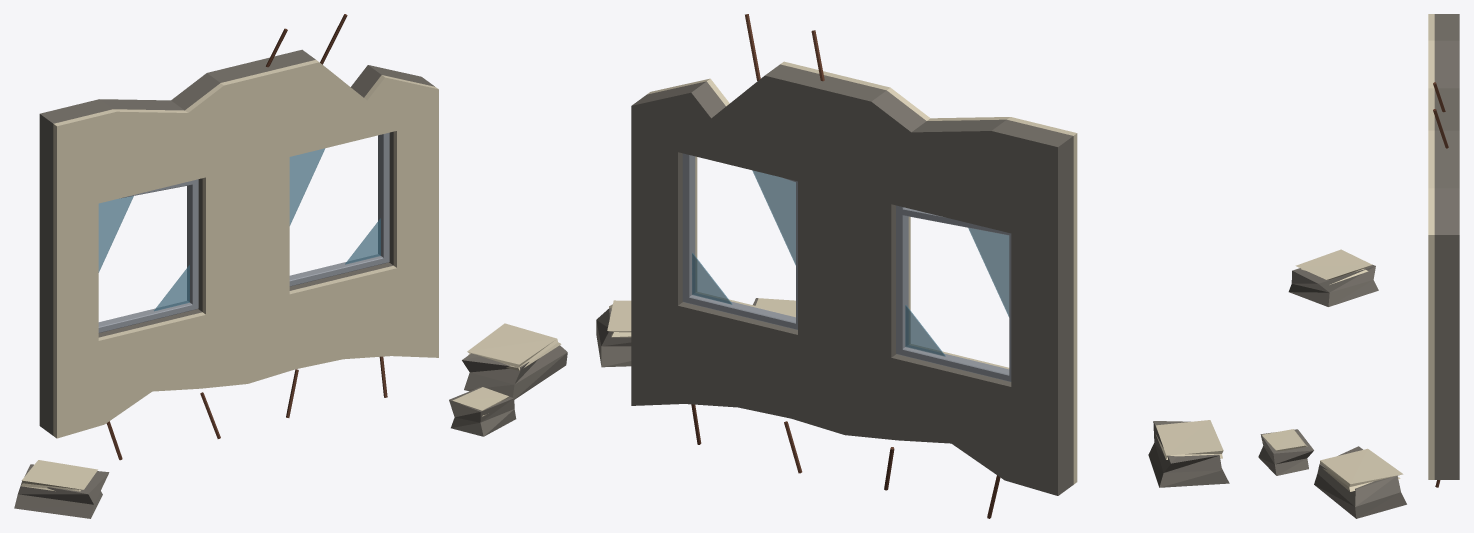
The model's file is DESTROY_04.obj.
The picture shows the model from 3 angles, left to right: view 1: azimuth 30°, elevation 25°; view 2: azimuth 150°, elevation 25°; view 3: azimuth 270°, elevation 25°; orthographic projection. The views are drawn at different scales.
Visible parts, largest first — view 1: DESTROY_04__sill_band_skin, DESTROY_04__header_band_skin, DESTROY_04__pier_M_skin, DESTROY_04__pier_L_skin, DESTROY_04__pier_R_skin, DESTROY_04__header_band_core, DESTROY_04__window_frame, DESTROY_04__window_glass, DESTROY_04__fragment_1, DESTROY_04__fragment_1_skin, DESTROY_04__fragment_2, DESTROY_04__sill_band_core (+7 smaller); view 2: DESTROY_04__header_band_core, DESTROY_04__sill_band_core, DESTROY_04__pier_M_core, DESTROY_04__pier_L_core, DESTROY_04__pier_R_core, DESTROY_04__window_frame, DESTROY_04__window_glass, DESTROY_04__fragment_2, DESTROY_04__header_band_skin, DESTROY_04__fragment_2_skin, DESTROY_04__rebar, DESTROY_04__fragment_1 (+3 smaller); view 3: DESTROY_04__header_band_core, DESTROY_04__pier_R_core, DESTROY_04__fragment_1, DESTROY_04__sill_band_core, DESTROY_04__fragment_2, DESTROY_04__fragment_1_skin, DESTROY_04__header_band_skin, DESTROY_04__fragment_2_skin, DESTROY_04__fragment_3, DESTROY_04__pier_R_skin, DESTROY_04__fragment_3_skin, DESTROY_04__sill_band_skin (+1 smaller).
Boxes of the visible parts, box(x1,y1,x2,y2) form: DESTROY_04__sill_band_skin: box(53, 258, 438, 438); DESTROY_04__header_band_skin: box(53, 60, 438, 213); DESTROY_04__pier_M_skin: box(202, 157, 289, 314); DESTROY_04__pier_L_skin: box(53, 203, 98, 350); DESTROY_04__pier_R_skin: box(393, 120, 438, 267); DESTROY_04__header_band_core: box(39, 49, 434, 210); DESTROY_04__window_frame: box(98, 132, 389, 332); DESTROY_04__window_glass: box(98, 148, 380, 311); DESTROY_04__fragment_1: box(462, 345, 567, 399); DESTROY_04__fragment_1_skin: box(467, 323, 561, 370); DESTROY_04__fragment_2: box(14, 464, 109, 518); DESTROY_04__sill_band_core: box(39, 262, 392, 435); DESTROY_04__header_band_core: box(631, 64, 1073, 244); DESTROY_04__sill_band_core: box(631, 294, 1073, 495); DESTROY_04__pier_M_core: box(798, 181, 895, 357); DESTROY_04__pier_L_core: box(1011, 233, 1073, 398); DESTROY_04__pier_R_core: box(631, 141, 682, 305); DESTROY_04__window_frame: box(682, 153, 1011, 381); DESTROY_04__window_glass: box(692, 170, 1009, 356); DESTROY_04__fragment_2: box(1148, 421, 1229, 487); DESTROY_04__header_band_skin: box(647, 61, 1077, 232); DESTROY_04__fragment_2_skin: box(1156, 420, 1223, 459); DESTROY_04__rebar: box(691, 14, 1000, 518); DESTROY_04__fragment_1: box(596, 308, 631, 367); DESTROY_04__header_band_core: box(1434, 14, 1459, 263); DESTROY_04__pier_R_core: box(1434, 263, 1459, 388); DESTROY_04__fragment_1: box(1314, 446, 1406, 518); DESTROY_04__sill_band_core: box(1434, 388, 1459, 479); DESTROY_04__fragment_2: box(1288, 264, 1378, 306); DESTROY_04__fragment_1_skin: box(1320, 448, 1403, 491); DESTROY_04__header_band_skin: box(1428, 14, 1434, 263); DESTROY_04__fragment_2_skin: box(1295, 249, 1372, 284); DESTROY_04__fragment_3: box(1258, 429, 1313, 475); DESTROY_04__pier_R_skin: box(1428, 263, 1434, 388); DESTROY_04__fragment_3_skin: box(1262, 429, 1307, 451); DESTROY_04__sill_band_skin: box(1428, 388, 1434, 479).
Bounding box in the file's own units: 4.69 × 3.16 × 1.6.
